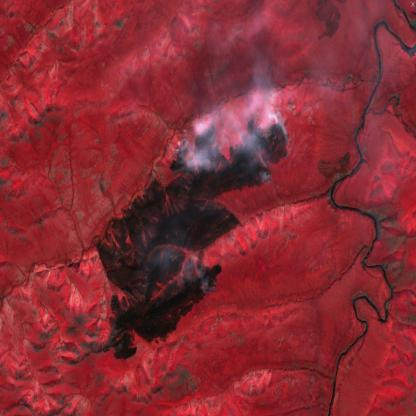fire: (170, 108, 290, 188), (191, 254, 220, 296)
